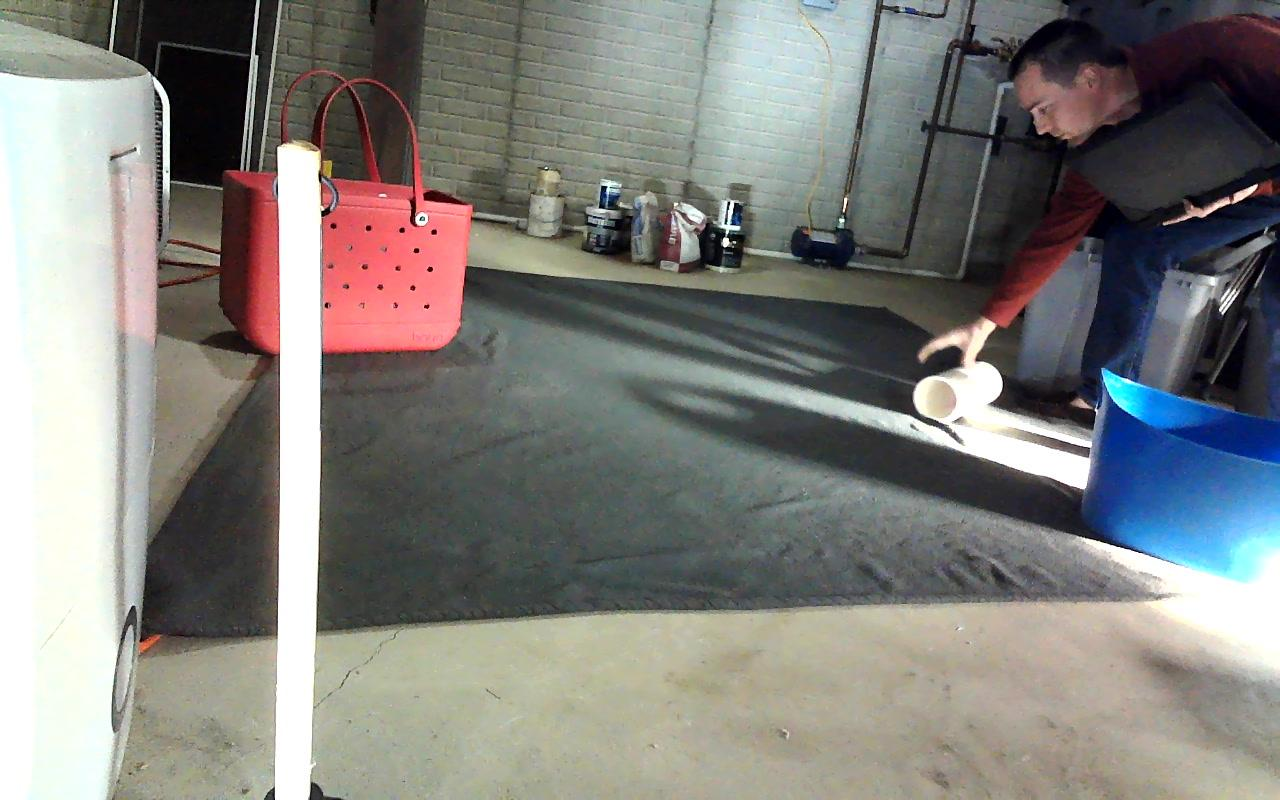coral: (913, 360, 1002, 418)
